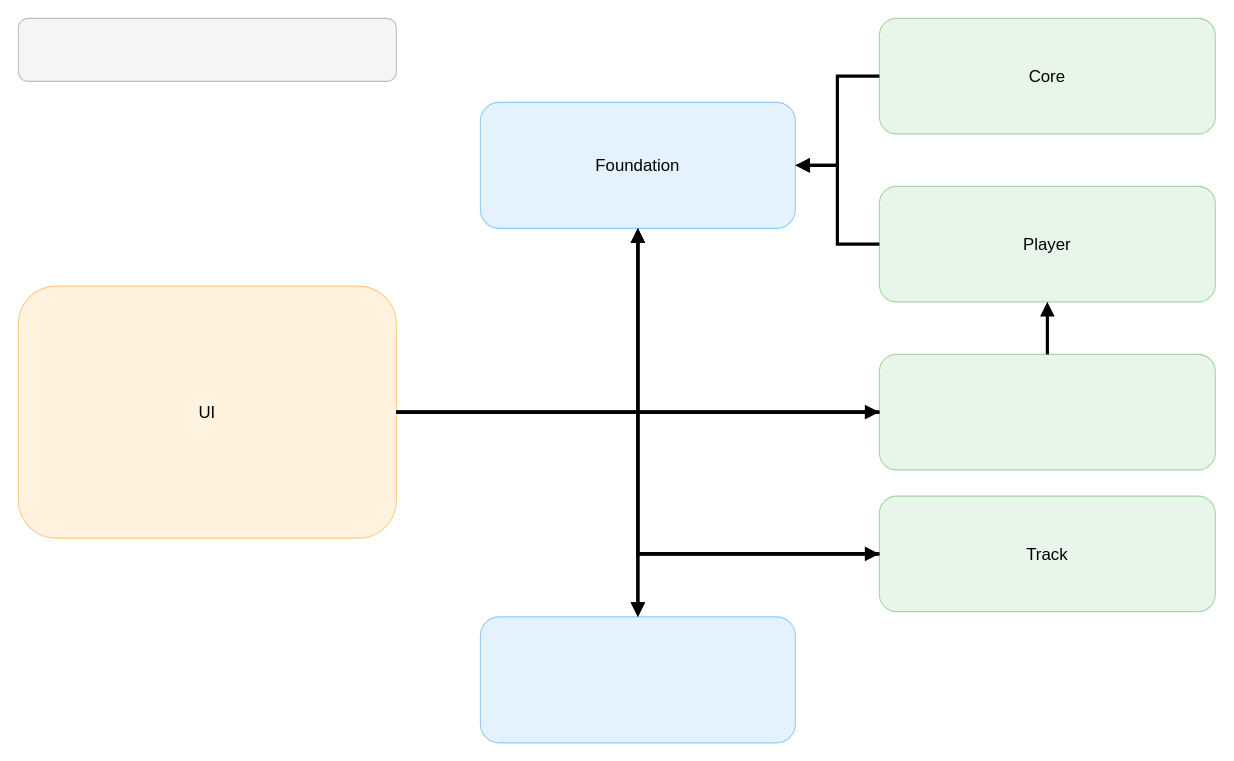
The diagram is 1234 pixels wide and 761 high, and some of its shapes have lost their labels. The shapes that lost their labels are listed below. From the top down, each one's centre as x and y in pixels, then its label:
At (x=206, y=49): "Legend: arrows show dependency direction (A → B means A depends on B)".
At (x=1046, y=411): "Progression".
At (x=637, y=679): "Data".
